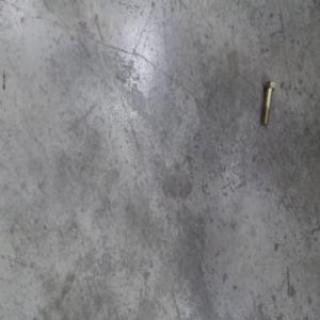Bolttrack_idkeyframe: (257, 74, 272, 120)
